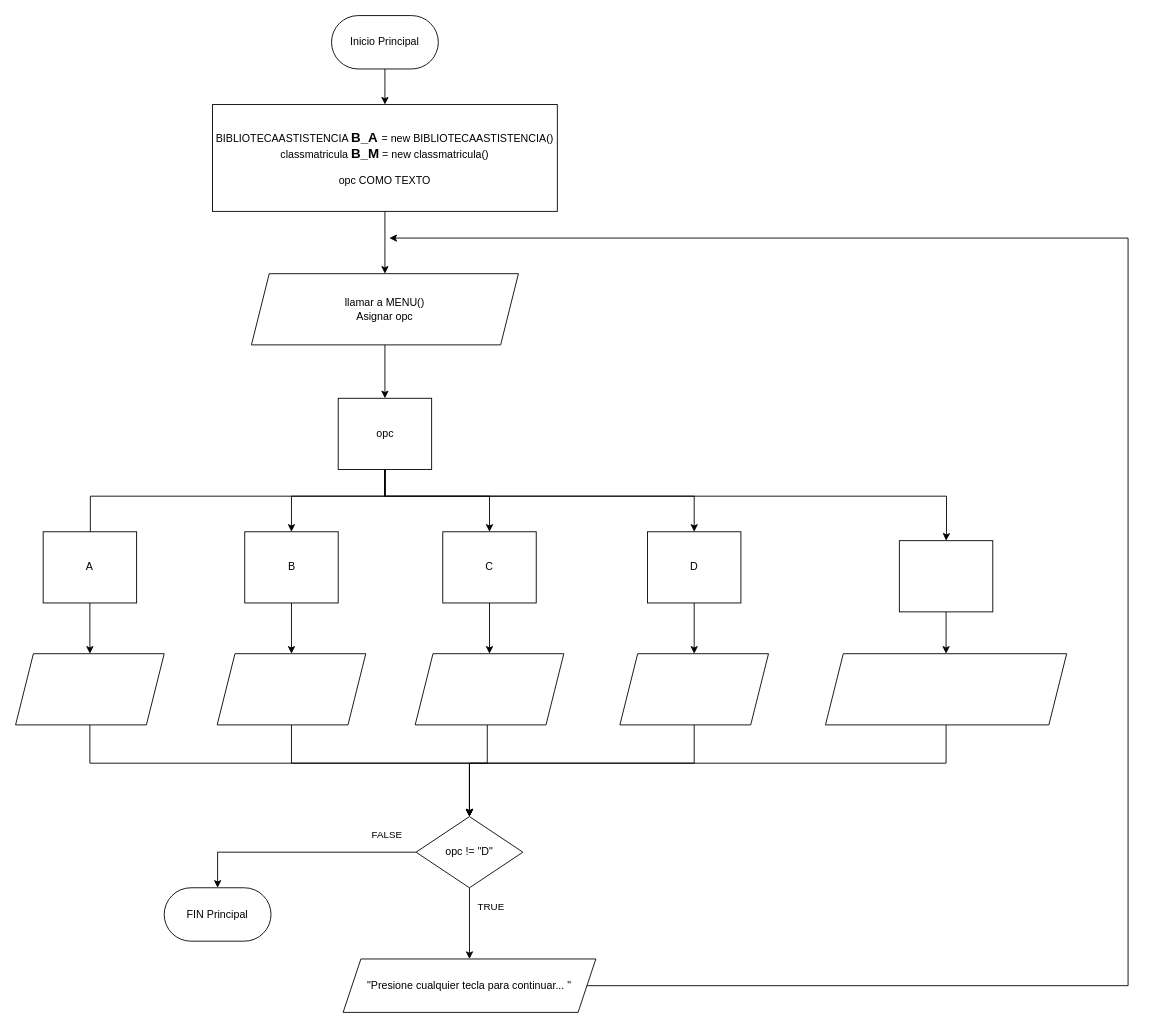
The diagram is 1151 pixels wide and 1028 high, and some of its shapes have lost their labels. The shapes that lost their labels are listed below. From the top down, each one's box as (x1, y1, x2, y2) in pixels, then its label:
(898, 540, 993, 612): por defecto
(15, 653, 164, 725): B_M.matempresas()
(216, 653, 366, 725): B_M.matpersonas()
(414, 653, 564, 725): B_A.Registroasistencia()
(619, 653, 769, 725): return
(825, 653, 1067, 725): Opcion no valida. Por favor, seleccion del menú
